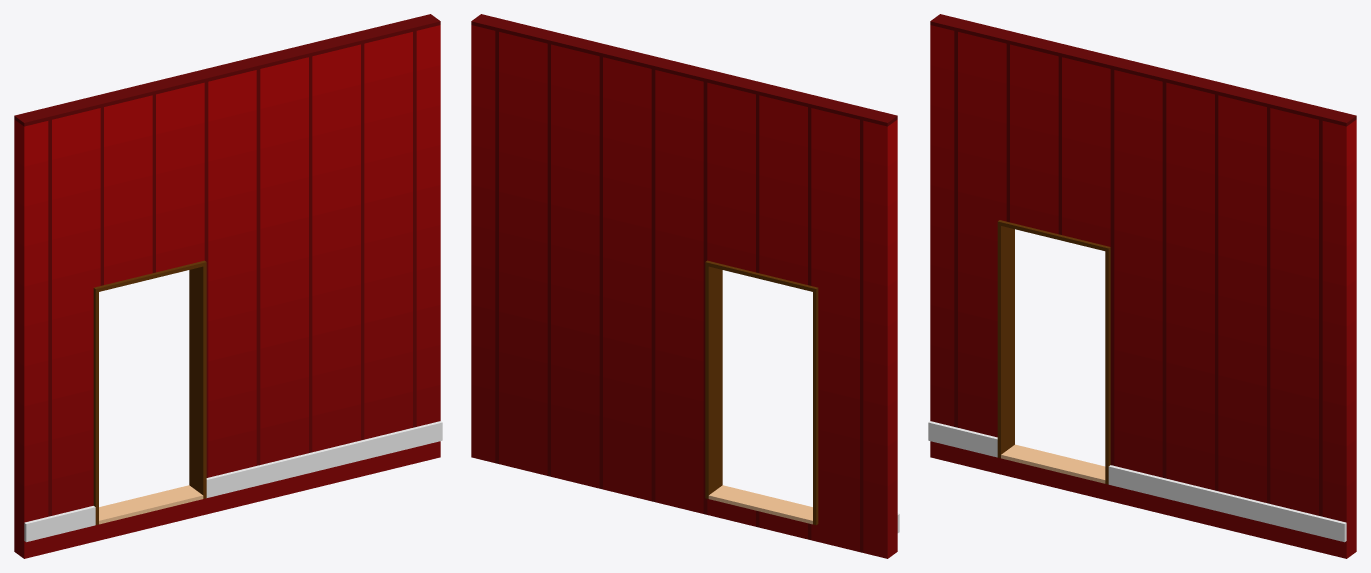
The model's file is wall22.obj.
3 views of the same model, side by side, from view 1: azimuth 30°, elevation 25°; view 2: azimuth 150°, elevation 25°; view 3: azimuth 330°, elevation 25° (orthographic).
Size of the model in its own units: 12 by 12 by 0.7.
1 material, 1 textured.
